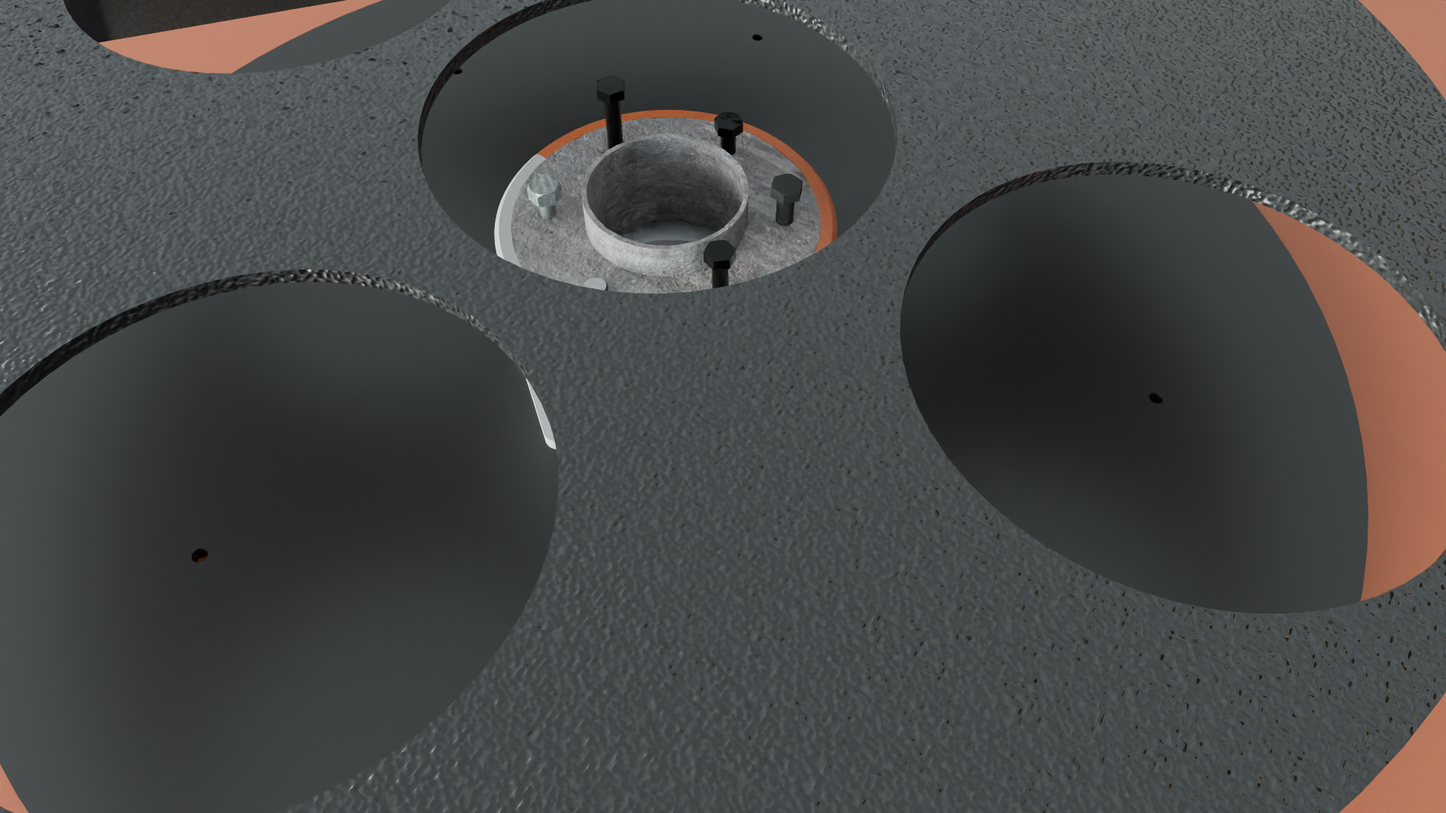bolt: (527, 175, 560, 198), (703, 240, 736, 263), (771, 173, 803, 196), (596, 76, 624, 96), (714, 112, 743, 130), (583, 278, 608, 291)
